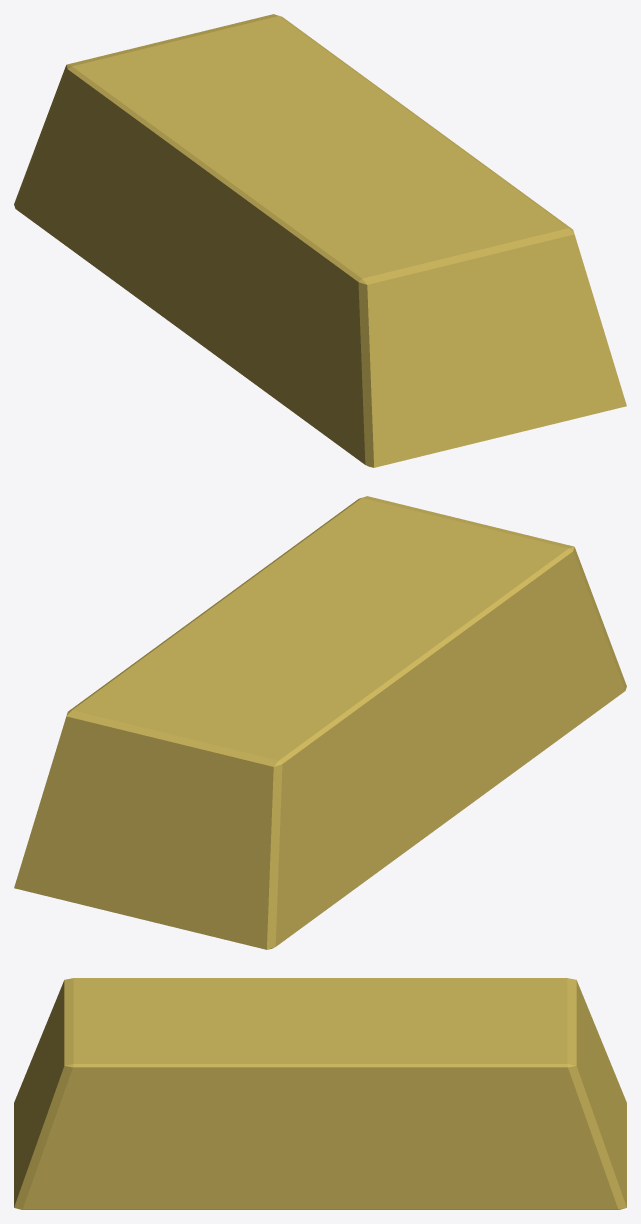
Rendered from Ingot.fbx.
The picture shows the model from 3 angles, top to bottom: view 1: azimuth 30°, elevation 25°; view 2: azimuth 150°, elevation 25°; view 3: azimuth 270°, elevation 25°; orthographic projection. The views are drawn at different scales.
Visible parts, largest first — view 1: Ingot; view 2: Ingot; view 3: Ingot.
Boxes of the visible parts, box(x1,y1,x2,y2) form: Ingot: box(14, 14, 626, 467); Ingot: box(14, 496, 626, 949); Ingot: box(14, 978, 626, 1209).
Size of the model in its own units: 85.03 by 50.04 by 204.
